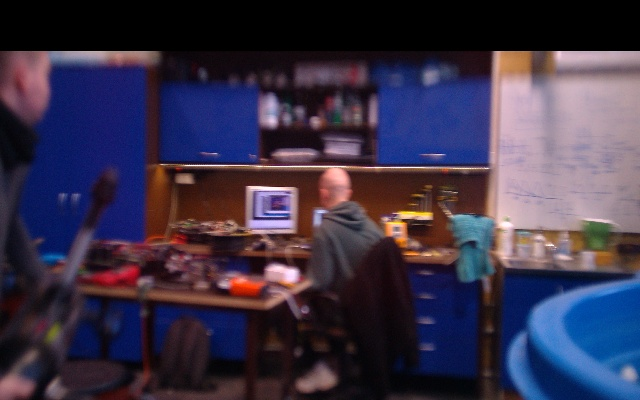black: (57, 225, 96, 294)
